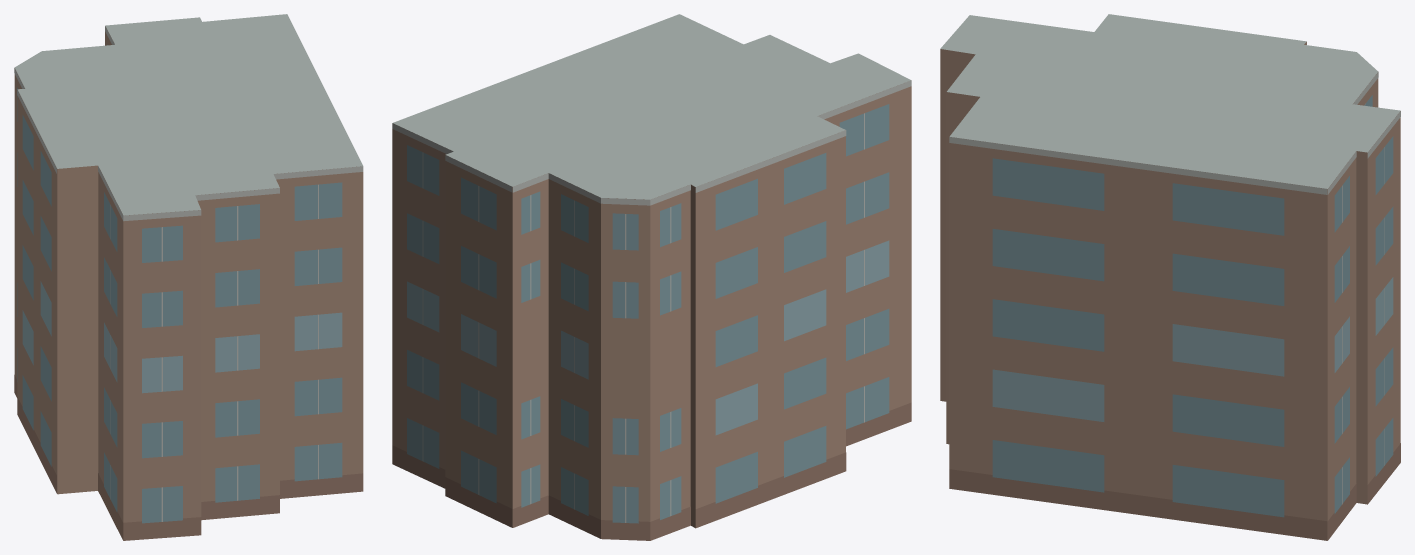
File: survey-upis-32953866.glb
3 views of the same model, side by side, from view 1: azimuth 30°, elevation 25°; view 2: azimuth 150°, elevation 25°; view 3: azimuth 270°, elevation 25° (orthographic). The views are drawn at different scales.
Parts seen in each view (by area): view 1: survey-upis-32953866.tmp; view 2: survey-upis-32953866.tmp; view 3: survey-upis-32953866.tmp.
Part boxes in pixels (x1,y1,x2,y2): survey-upis-32953866.tmp: [14, 14, 363, 540]; survey-upis-32953866.tmp: [392, 14, 911, 540]; survey-upis-32953866.tmp: [940, 14, 1400, 540].
Bounding box in the file's own units: 14.93 × 14 × 16.62.
